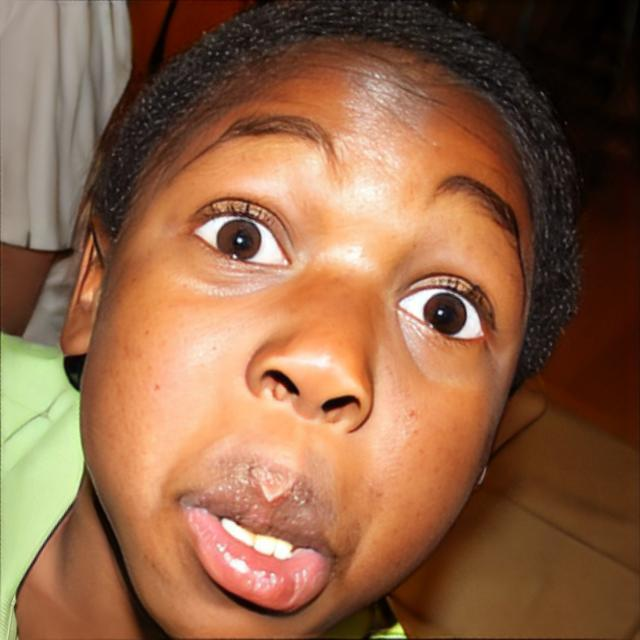surprise: (79, 3, 539, 640)
